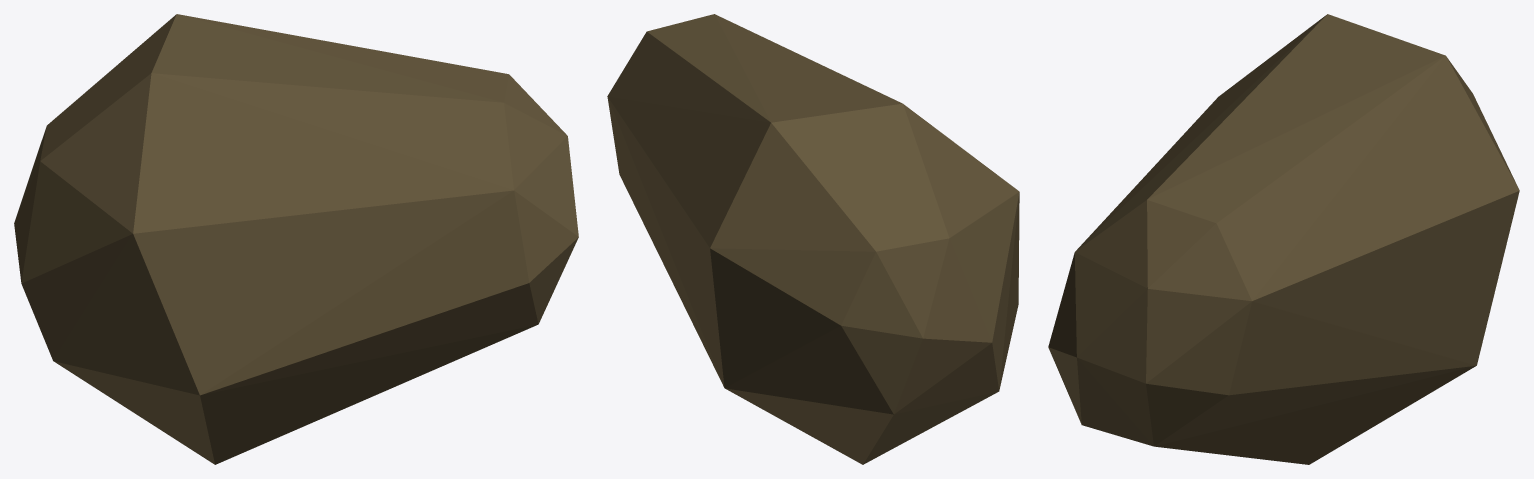
The model's file is trochanter_m_r.dae.
3 views of the same model, side by side, from view 1: azimuth 30°, elevation 25°; view 2: azimuth 150°, elevation 25°; view 3: azimuth 270°, elevation 25° (orthographic). The views are drawn at different scales.
Visible parts, largest first — view 1: ant-femur-trochanter-middle-right; view 2: ant-femur-trochanter-middle-right; view 3: ant-femur-trochanter-middle-right.
Part boxes in pixels (x1,y1,x2,y2): ant-femur-trochanter-middle-right: (14, 14, 578, 464); ant-femur-trochanter-middle-right: (607, 14, 1019, 464); ant-femur-trochanter-middle-right: (1048, 14, 1519, 464).
Size of the model in its own units: 1.4 by 1.14 by 1.05.
